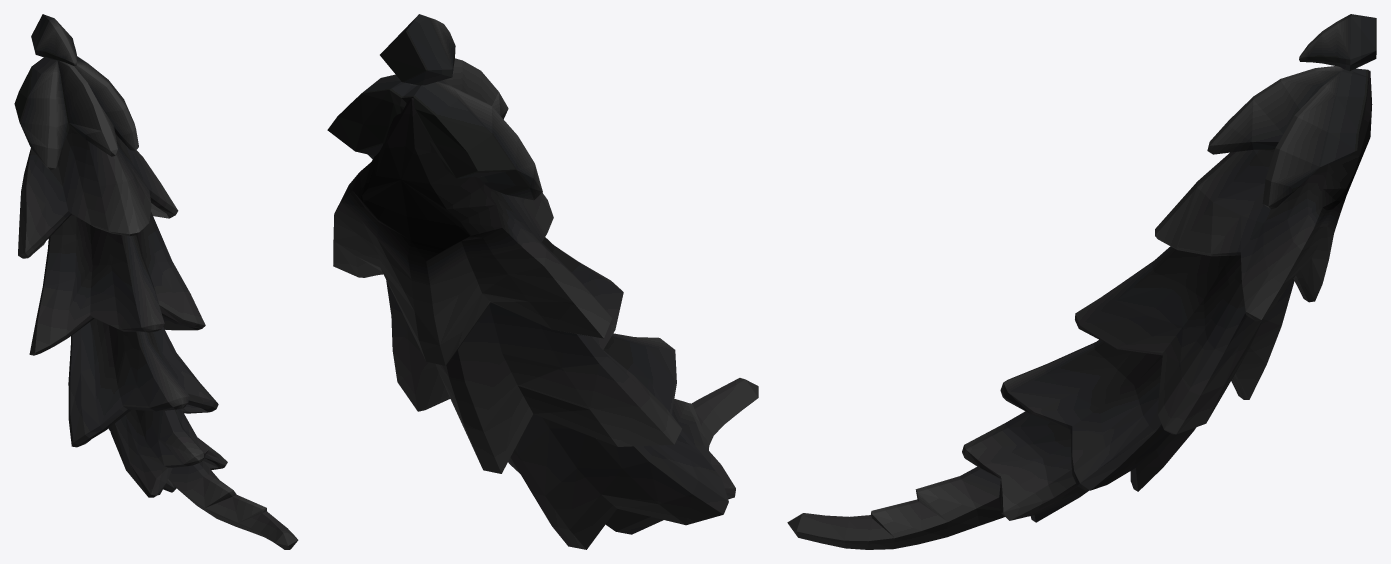
File: CharSkyKid_Tail_AP27KrillTail.glb
3 renders of one model, left to right at view 1: azimuth 30°, elevation 25°; view 2: azimuth 150°, elevation 25°; view 3: azimuth 270°, elevation 25°, orthographic. The views are drawn at different scales.
Visible parts, largest first — view 1: CharSkyKid_Tail_AP27KrillTail; view 2: CharSkyKid_Tail_AP27KrillTail; view 3: CharSkyKid_Tail_AP27KrillTail.
Part boxes in pixels (x1,y1,x2,y2): CharSkyKid_Tail_AP27KrillTail: (14,14,298,549); CharSkyKid_Tail_AP27KrillTail: (327,14,758,549); CharSkyKid_Tail_AP27KrillTail: (787,14,1376,549).
Bounding box in the file's own units: 2.56 × 5.63 × 5.85.
Materials: 1 (1 with a texture image).
